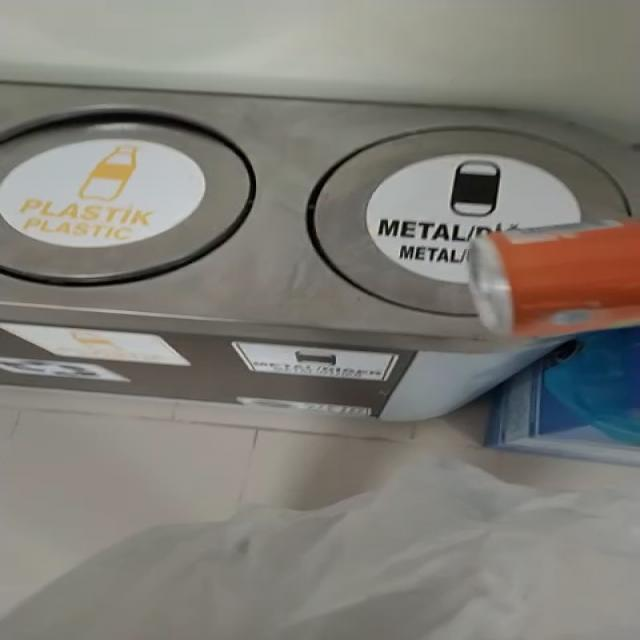Bin: (0, 83, 637, 421)
Metal: (471, 220, 640, 337)
